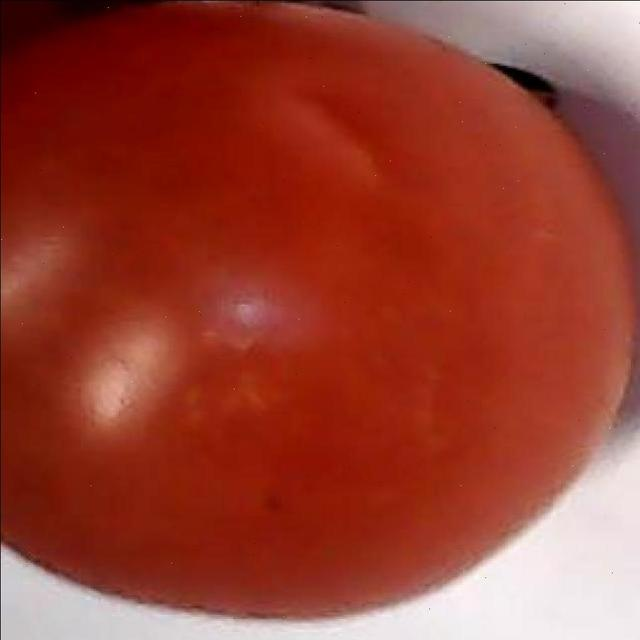Healthy Fruit: (2, 18, 427, 426)
